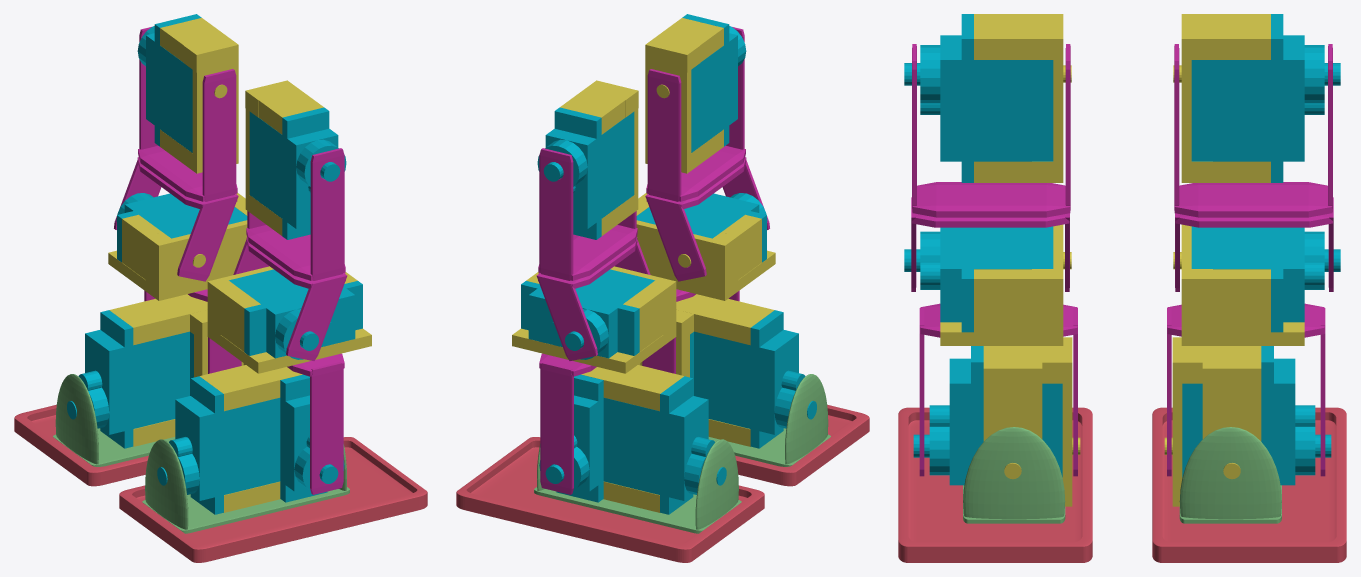
The model's file is robot 3D with servo motors.glb.
3 renders of one model, left to right at view 1: azimuth 30°, elevation 25°; view 2: azimuth 150°, elevation 25°; view 3: azimuth 270°, elevation 25°, orthographic. The views are drawn at different scales.
Parts seen in each view (by area): view 1: Mesh_Mesh_head_geo.001_lambert2SG.001; view 2: Mesh_Mesh_head_geo.001_lambert2SG.001; view 3: Mesh_Mesh_head_geo.001_lambert2SG.001.
Boxes of the visible parts, x1,y1,x2,y2 form: Mesh_Mesh_head_geo.001_lambert2SG.001: (14, 14, 427, 562); Mesh_Mesh_head_geo.001_lambert2SG.001: (456, 14, 869, 562); Mesh_Mesh_head_geo.001_lambert2SG.001: (898, 14, 1346, 562).
Size of the model in its own units: 66 by 106 by 90.
